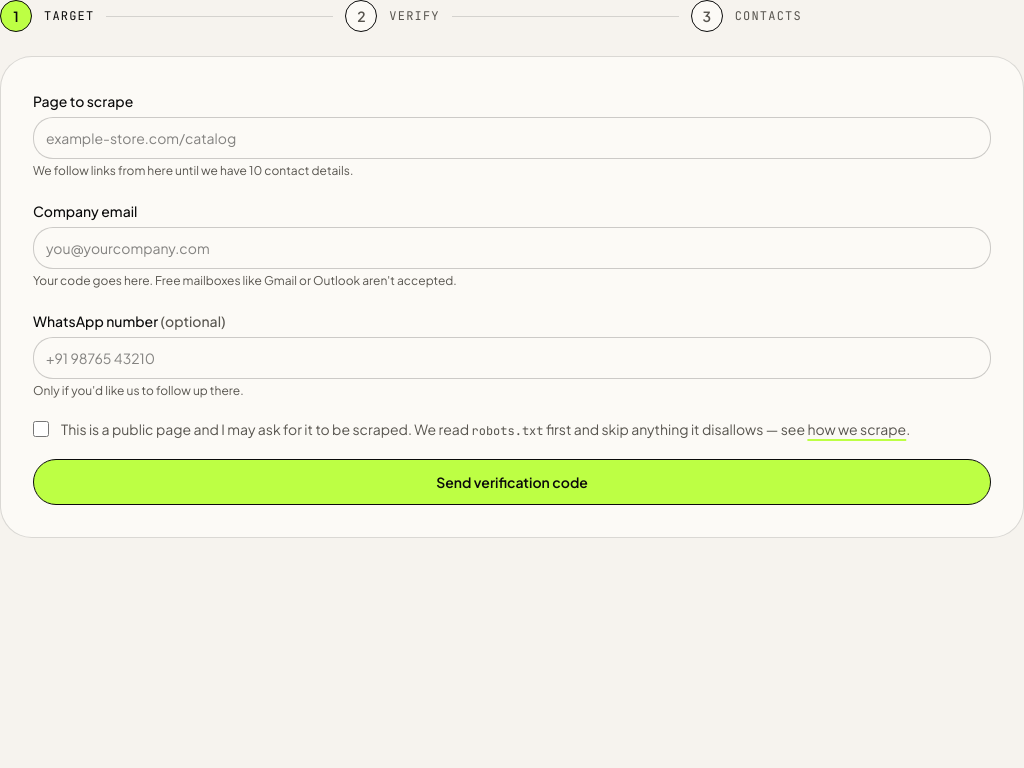
Test: Live demo › asks for consent before sending a code
Type "example-store.com" into the field labelled "Page to scrape" at (512, 138), box [33, 117, 991, 159]
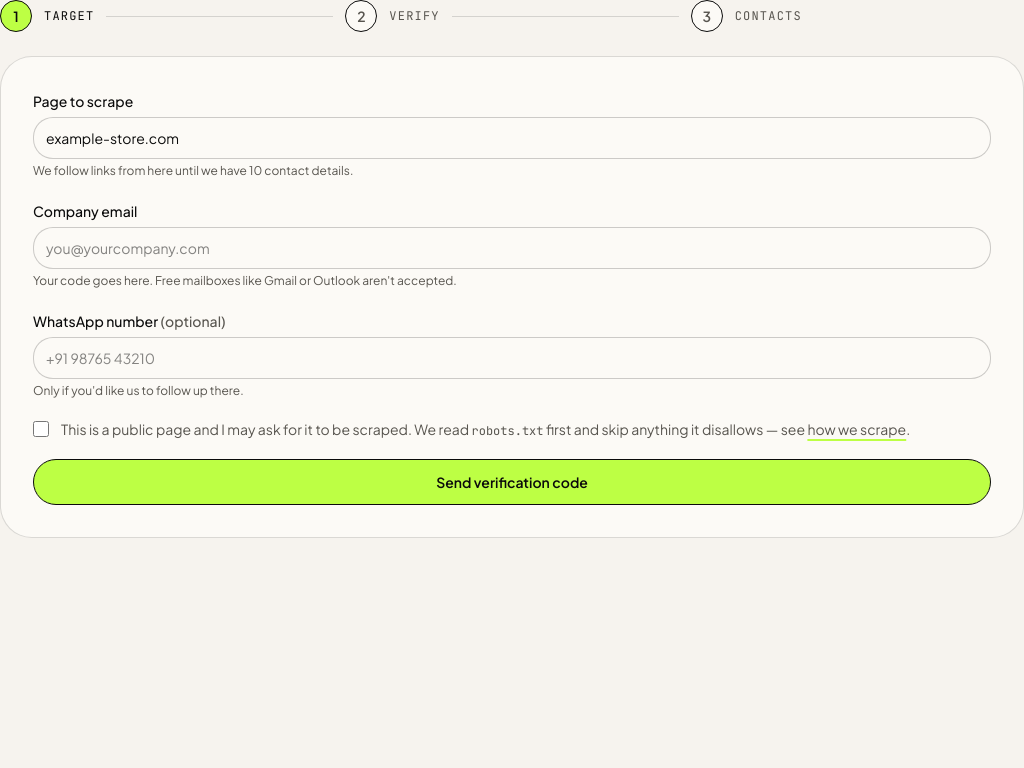
Type "buyer@northwind-logistics.com" into the field labelled "Company email" at (512, 248), box [33, 227, 991, 269]
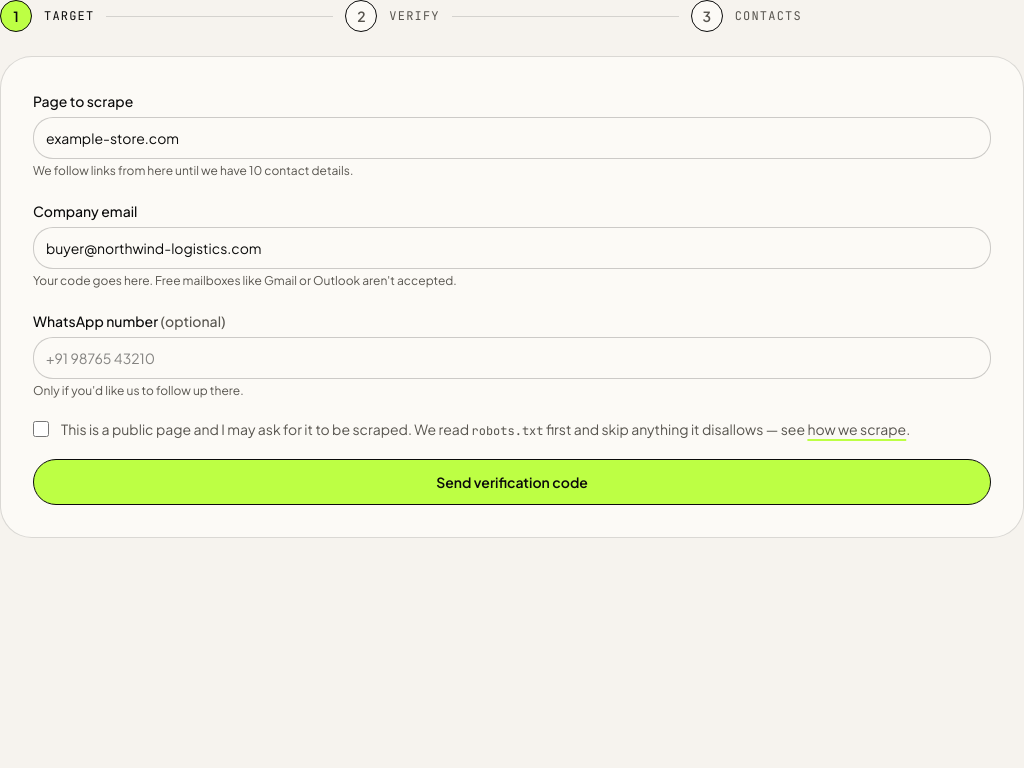
Click the button "Send verification code" at (512, 482), box [33, 459, 991, 505]
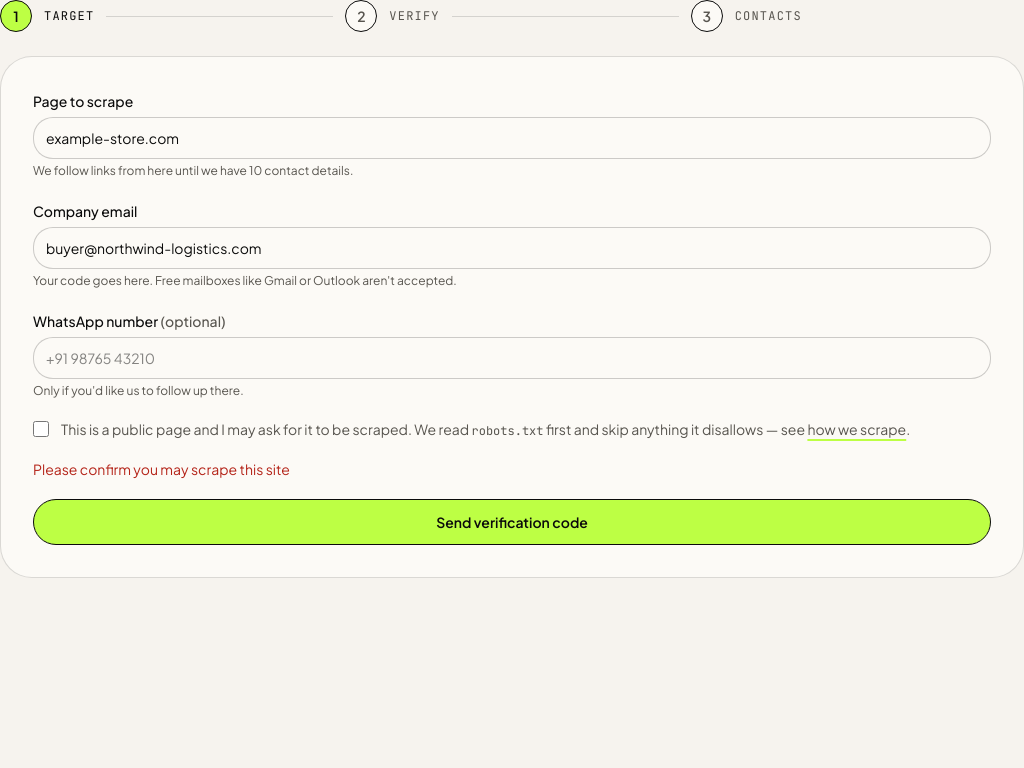
Check: the text "Please confirm you may scrape this site" is shown, box [33, 460, 290, 478]
